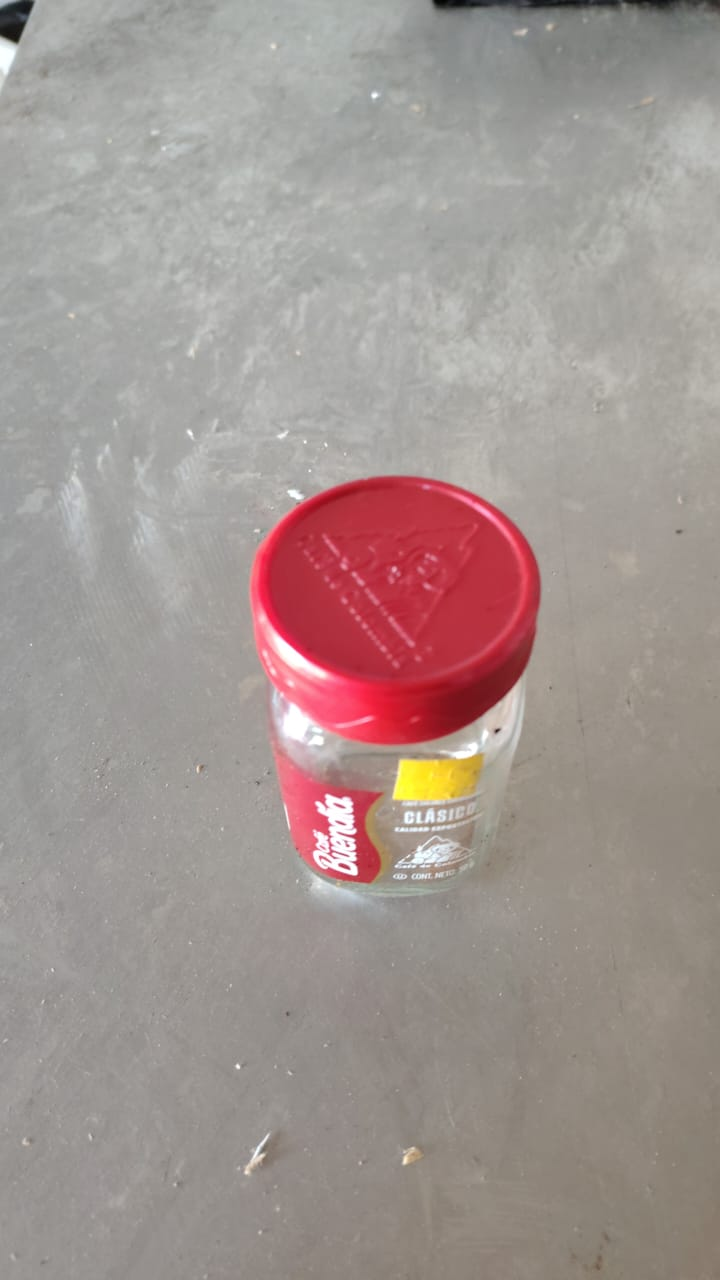Vidrio: (262, 693, 521, 907)
